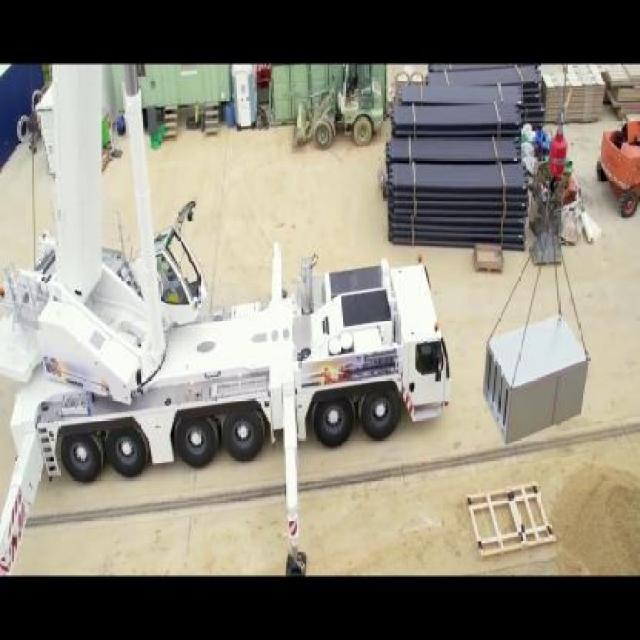Mobile Crane: (1, 58, 454, 574)
